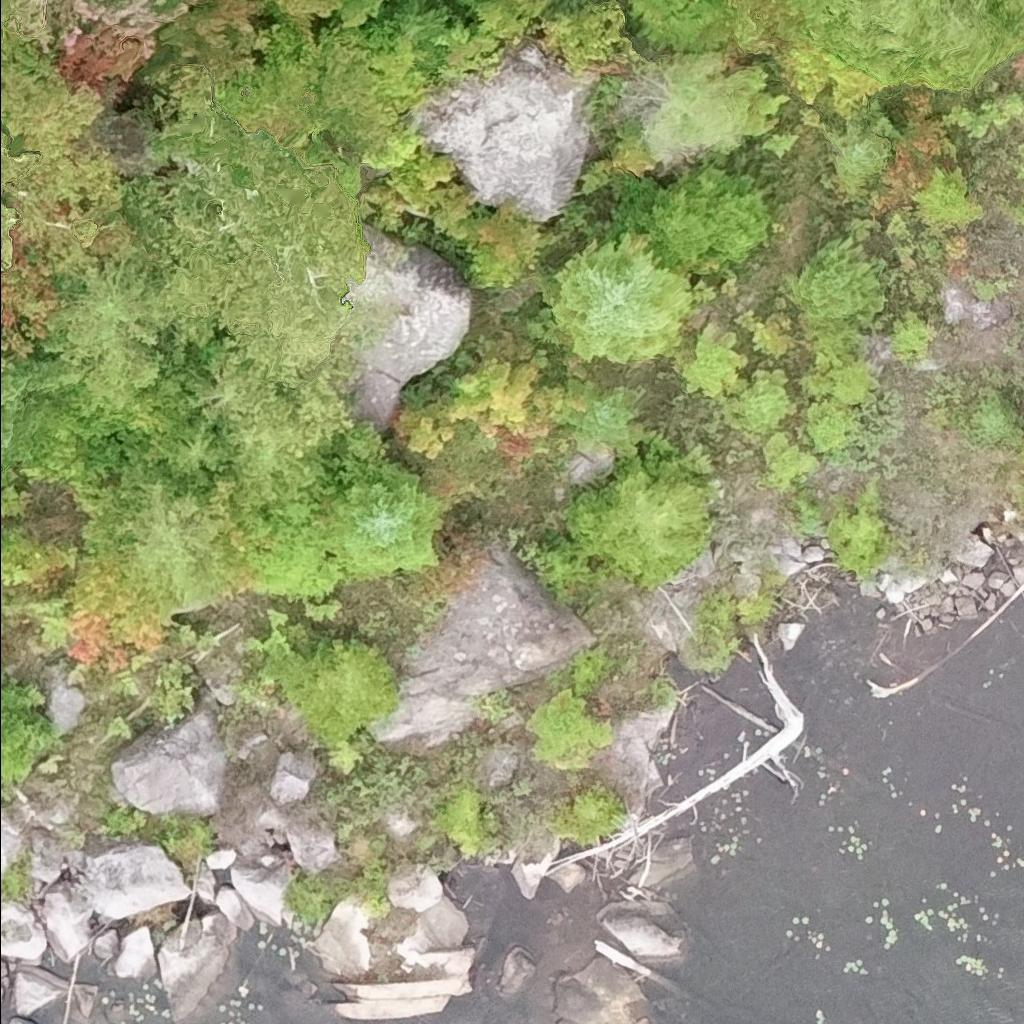crown: (153, 125, 362, 372), (0, 0, 124, 273), (539, 233, 716, 367), (789, 0, 1023, 85), (122, 472, 241, 610), (571, 469, 704, 580), (322, 469, 442, 578), (458, 197, 558, 291), (786, 235, 886, 323), (444, 357, 540, 439), (527, 686, 613, 759), (158, 415, 231, 488), (391, 394, 456, 458), (0, 681, 38, 781), (263, 0, 345, 41), (0, 369, 30, 476), (694, 0, 703, 2)
